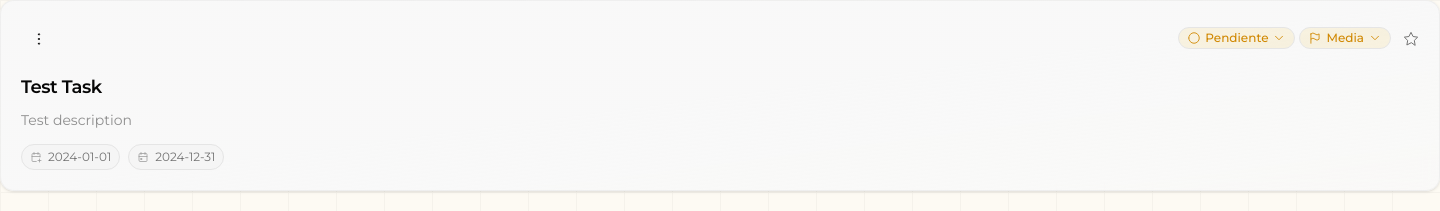
TaskCard › shows action menu when clicking actions button
This screenshot has width=1440, height=211.
Click the 1st button at (39, 39), box [21, 21, 57, 57]
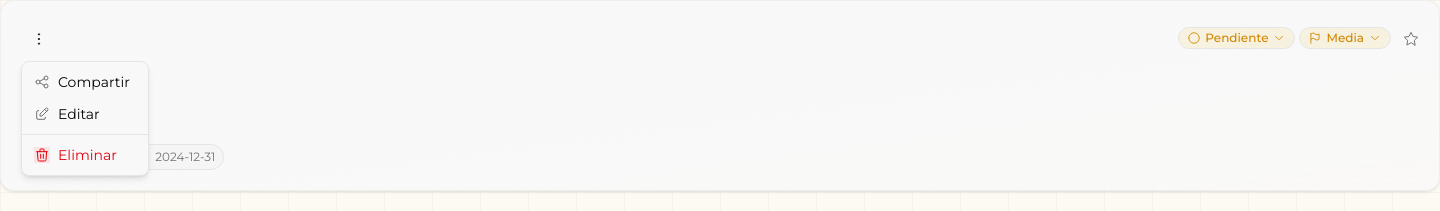
Now the menu item "Editar" is shown, box [34, 105, 100, 123]
Now the menu item "Compartir" is shown, box [34, 73, 130, 91]
Now the menu item "Eliminar" is shown, box [34, 146, 117, 164]
